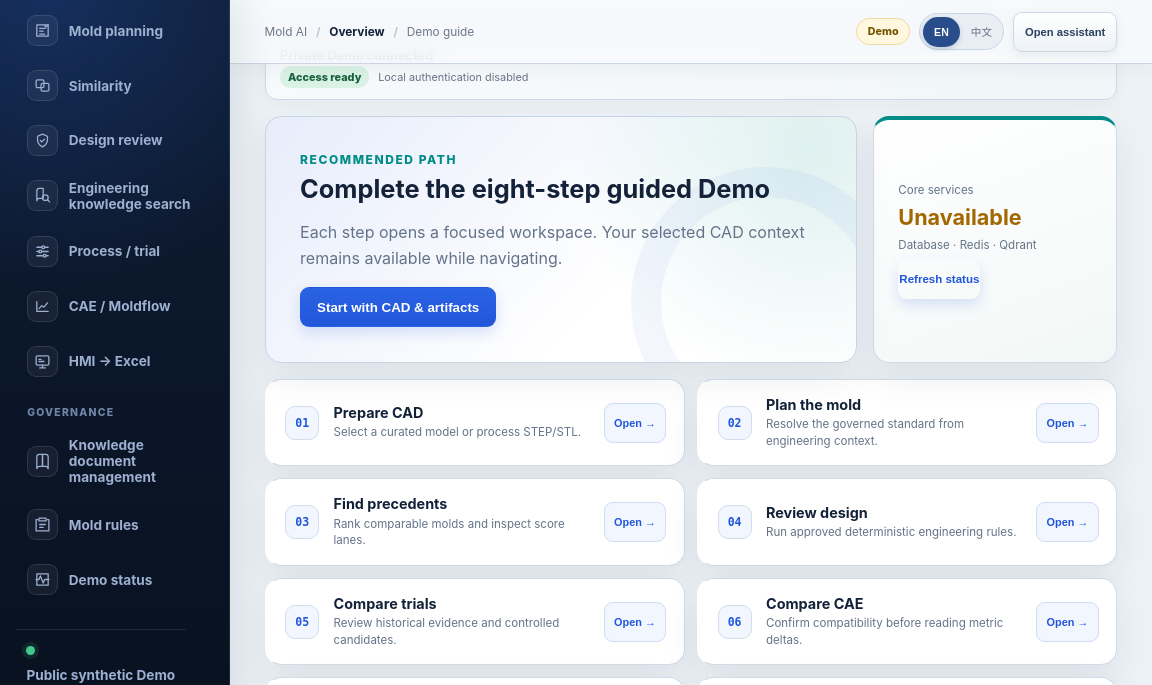
Test case: App › shows an actionable error when the health API cannot be reached
(page scrolled)
Click the link to "/status" at x=90, y=580, box x1=27 y1=564 x2=152 y2=595
(page scrolled)
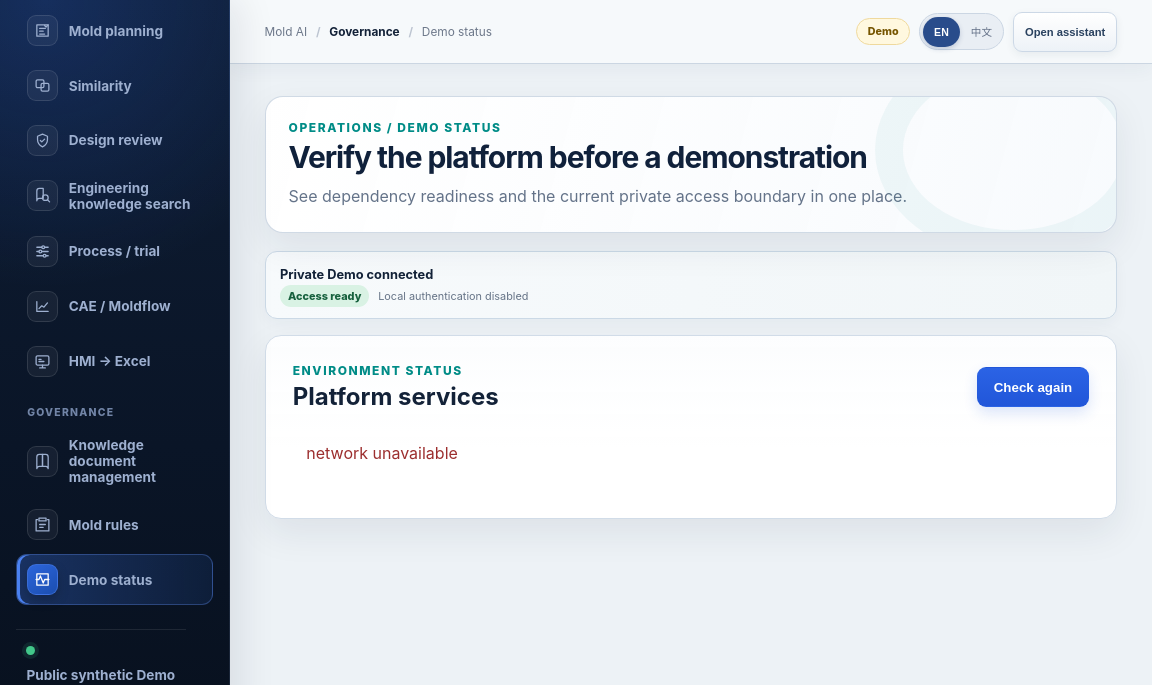
Expected: the message "network unavailable" is shown, x1=306 y1=443 x2=458 y2=463
